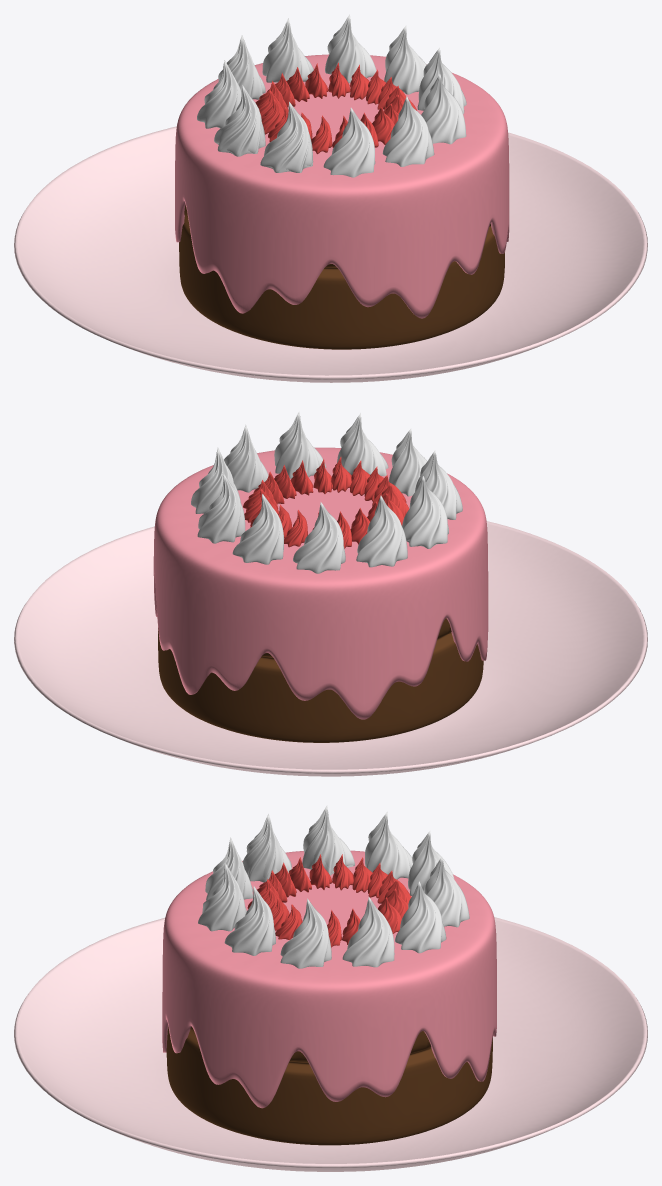
The model's file is bentocake-transformed.glb.
3 renders of one model, top to bottom at view 1: azimuth 30°, elevation 25°; view 2: azimuth 150°, elevation 25°; view 3: azimuth 270°, elevation 25°, orthographic.
Bounding box in the file's own units: 6.89 × 2.73 × 6.89.
